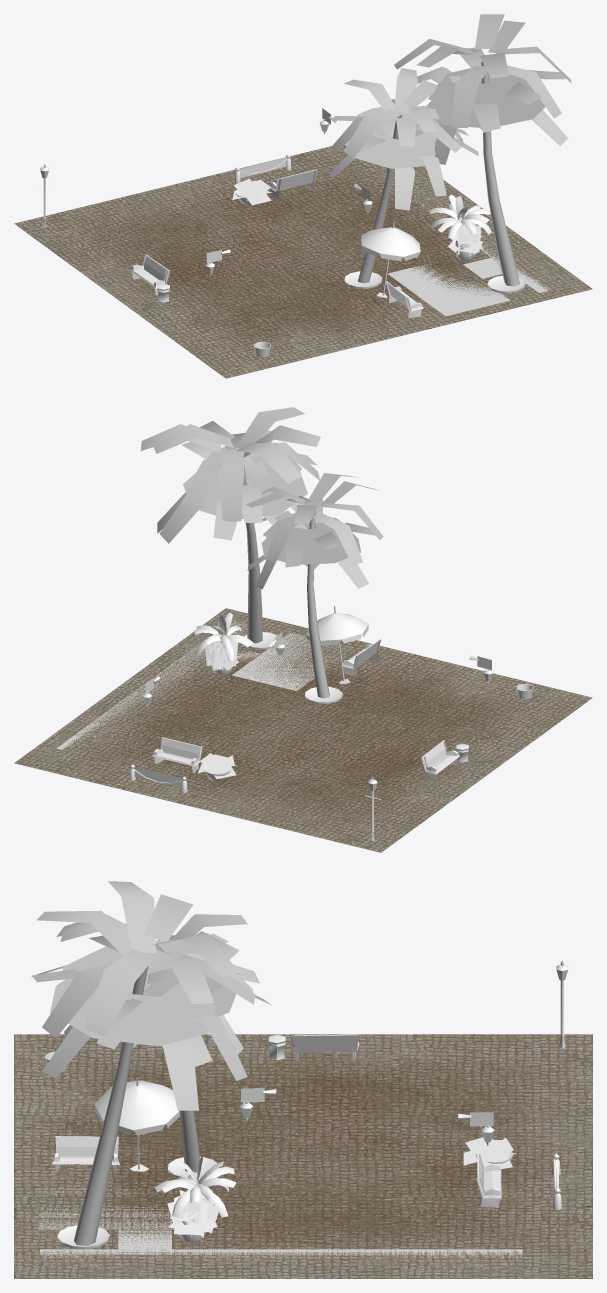
The model's file is propsonly_5.gltf.
The picture shows the model from 3 angles, top to bottom: view 1: azimuth 30°, elevation 25°; view 2: azimuth 150°, elevation 25°; view 3: azimuth 270°, elevation 25°; orthographic projection. The views are drawn at different scales.
Visible parts, largest first — view 1: ground.019, prop_tree1.017, prop_tree1.016, FeedbackBlocker.050, prop_sunshade1.011, prop_treepot_tree1.009, prop_bench1.019, prop_pot_flower1.014, prop_treepot_bush1.009, prop_bench1.020, prop_chain_fence1.025, prop_bench1.018 (+2 smaller); view 2: ground.019, prop_tree1.017, prop_tree1.016, FeedbackBlocker.050, prop_sunshade1.011, FeedbackBlocker.051, prop_treepot_tree1.009, prop_bench1.020, prop_bench1.019, prop_treepot_bush1.009, prop_chain_fence1.025, prop_pot_flower1.014 (+1 smaller); view 3: ground.019, prop_tree1.017, prop_tree1.016, FeedbackBlocker.051, prop_sunshade1.011, prop_treepot_tree1.009, FeedbackBlocker.050, prop_bench1.018, prop_treepot_bush1.009, prop_bench1.019, prop_pot_flower1.014, FeedbackBlocker.052 (+4 smaller).
Boxes of the visible parts, x1,y1,x2,y2 form: ground.019: [14, 145, 592, 378]; prop_tree1.017: [394, 14, 571, 286]; prop_tree1.016: [329, 68, 478, 283]; FeedbackBlocker.050: [387, 264, 510, 316]; prop_sunshade1.011: [360, 221, 420, 298]; prop_treepot_tree1.009: [429, 194, 491, 238]; prop_bench1.019: [130, 254, 169, 295]; prop_pot_flower1.014: [232, 178, 272, 205]; prop_treepot_bush1.009: [448, 222, 483, 256]; prop_bench1.020: [268, 169, 317, 198]; prop_chain_fence1.025: [234, 154, 291, 183]; prop_bench1.018: [385, 281, 423, 318]; ground.019: [14, 608, 592, 852]; prop_tree1.017: [140, 407, 320, 643]; prop_tree1.016: [246, 473, 383, 698]; FeedbackBlocker.050: [232, 633, 345, 691]; prop_sunshade1.011: [305, 606, 368, 684]; FeedbackBlocker.051: [56, 620, 247, 749]; prop_treepot_tree1.009: [194, 612, 253, 660]; prop_bench1.020: [152, 737, 202, 772]; prop_bench1.019: [421, 740, 459, 781]; prop_treepot_bush1.009: [205, 640, 239, 671]; prop_chain_fence1.025: [129, 764, 187, 792]; prop_pot_flower1.014: [198, 753, 236, 779]; ground.019: [14, 1034, 592, 1278]; prop_tree1.017: [30, 881, 271, 1245]; prop_tree1.016: [56, 913, 259, 1172]; FeedbackBlocker.051: [40, 1249, 522, 1261]; prop_sunshade1.011: [94, 1077, 179, 1171]; prop_treepot_tree1.009: [154, 1155, 236, 1217]; FeedbackBlocker.050: [38, 1188, 186, 1229]; prop_bench1.018: [52, 1136, 119, 1174]; prop_treepot_bush1.009: [167, 1190, 218, 1237]; prop_bench1.019: [291, 1034, 359, 1062]; prop_pot_flower1.014: [463, 1137, 516, 1168]; FeedbackBlocker.052: [118, 1230, 171, 1249].
Size of what is drawn, in the model's own units: 3.47 by 2.14 by 3.3.
